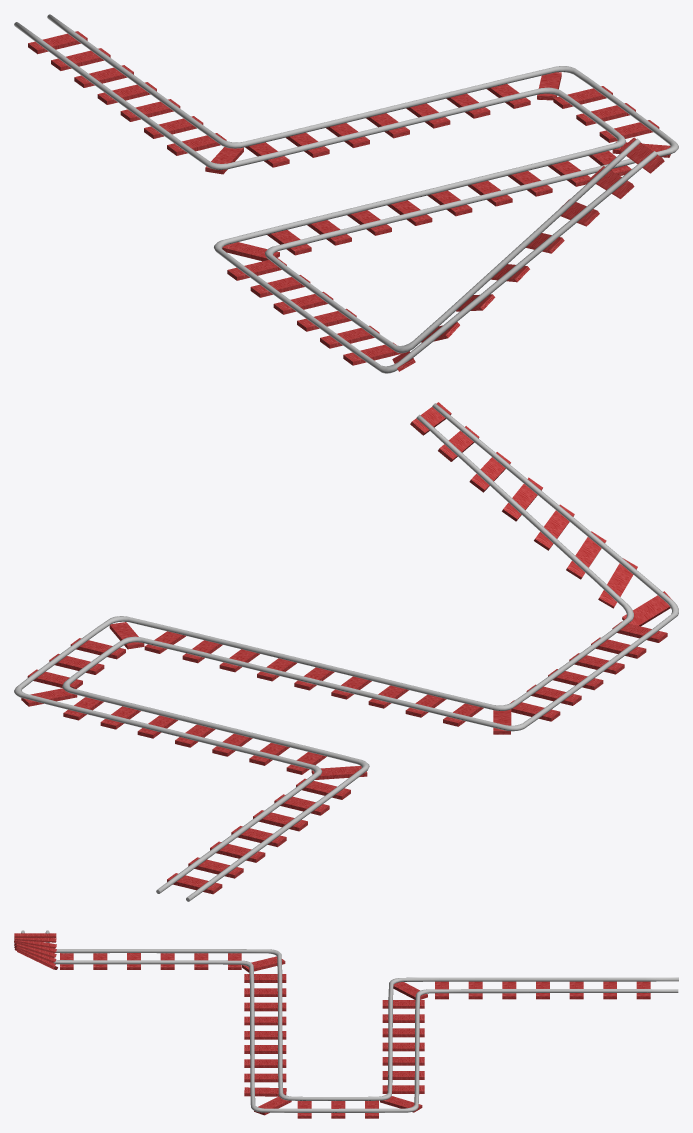
File: train tracks.FBX
3 renders of one model, top to bottom at view 1: azimuth 30°, elevation 25°; view 2: azimuth 150°, elevation 25°; view 3: azimuth 270°, elevation 25°, orthographic. The views are drawn at different scales.
Visible parts, largest first — view 1: Line001, Box045, Box031, Box037, Box036, Box002, Box034, Box033, Box020, Box035, Box032, Box004 (+7 smaller); view 2: Line001; view 3: Line001, Box023, Box012, Box013, Box028, Box027, Box022, Box024, Box014, Box010, Box031, Box030 (+8 smaller).
Part boxes in pixels (x1,y1,x2,y2): Line001: [14, 14, 678, 373]; Box045: [620, 137, 664, 173]; Box031: [222, 242, 279, 261]; Box037: [343, 342, 401, 365]; Box036: [320, 325, 379, 348]; Box002: [28, 31, 87, 54]; Box034: [273, 291, 333, 314]; Box033: [250, 275, 310, 297]; Box020: [599, 120, 659, 142]; Box035: [297, 308, 356, 331]; Box032: [227, 258, 286, 280]; Box004: [74, 65, 133, 87]; Line001: [14, 403, 678, 901]; Line001: [21, 930, 678, 1112]; Box023: [244, 1073, 286, 1082]; Box012: [382, 1028, 424, 1037]; Box013: [382, 1042, 424, 1051]; Box028: [244, 1002, 286, 1011]; Box027: [244, 1016, 286, 1025]; Box022: [244, 1087, 286, 1096]; Box024: [244, 1059, 286, 1067]; Box014: [382, 1057, 424, 1065]; Box010: [382, 1000, 424, 1008]; Box031: [242, 956, 285, 972]; Box030: [244, 974, 286, 982].
Size of the model in its own units: 556 by 193 by 939.
Materials: 2 (2 with a texture image).
